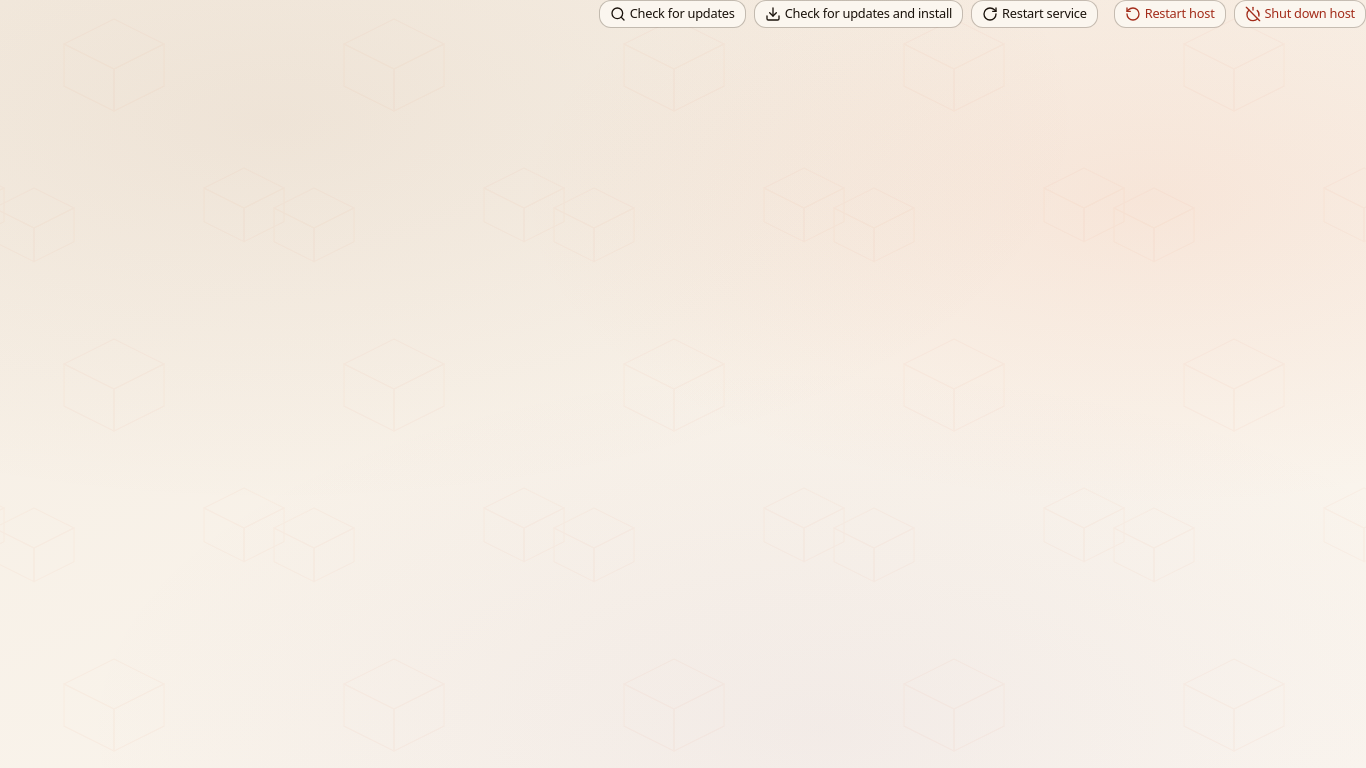
Test: HostActions: one dialog per action › Check for updates: title, description, box, the two lines, the typed field, the confirm
Click the button "Check for updates".
click(672, 14)  # box [599, 0, 746, 28]
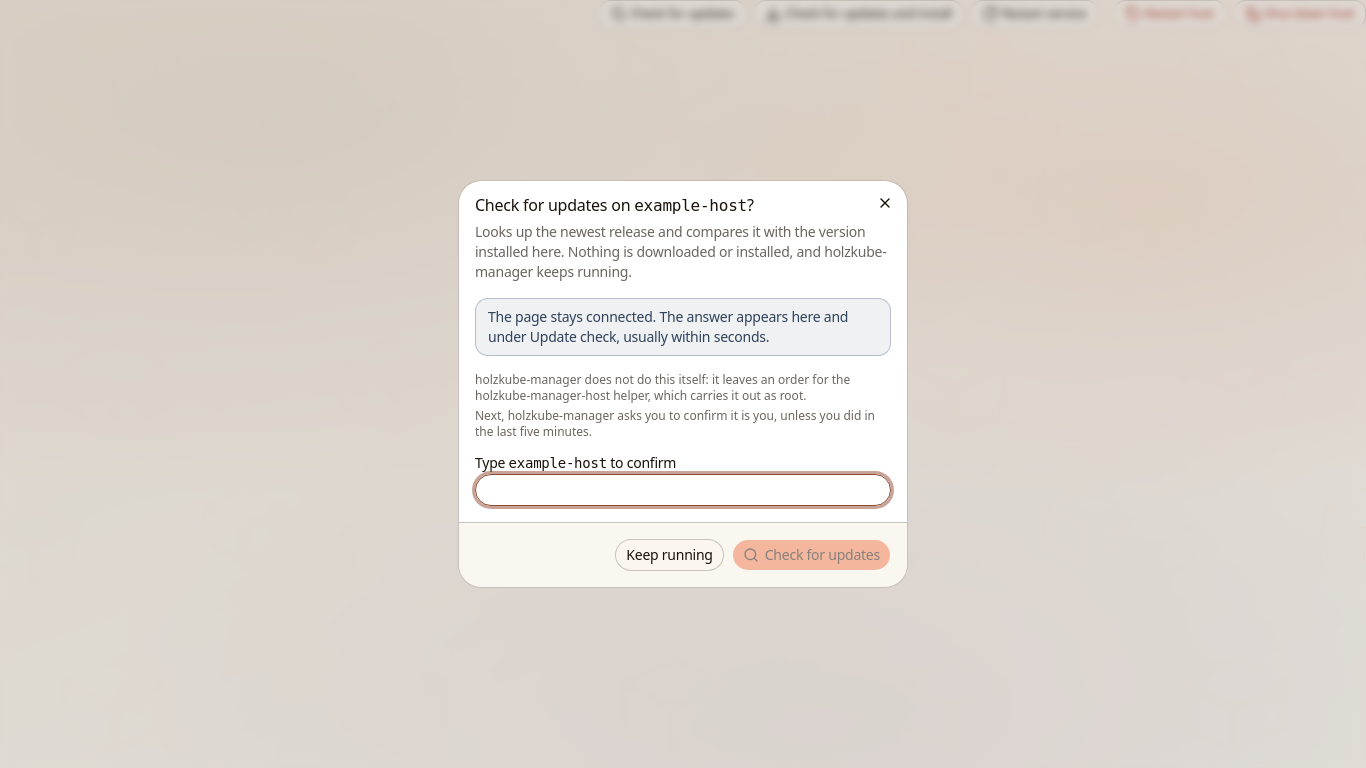
Result: the dialog shows "Looks up the newest release and compares it with the version installed here. Nothing is downloaded or installed, and holzkube-manager keeps running." at [475, 222, 886, 281]
Result: the text "leaves an order for the holzkube-manager-host helper" is shown at [475, 371, 850, 404]
Result: the text "asks you to confirm it is you" is shown at [475, 407, 875, 440]
